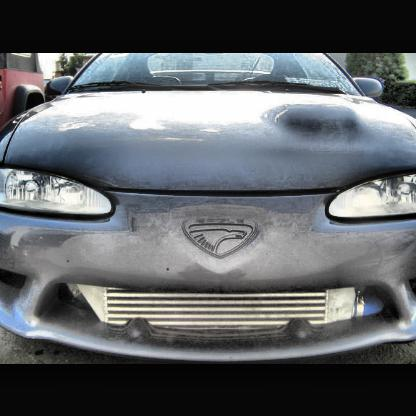Eagle Talon Hatchback 1998: (3, 54, 416, 362)
